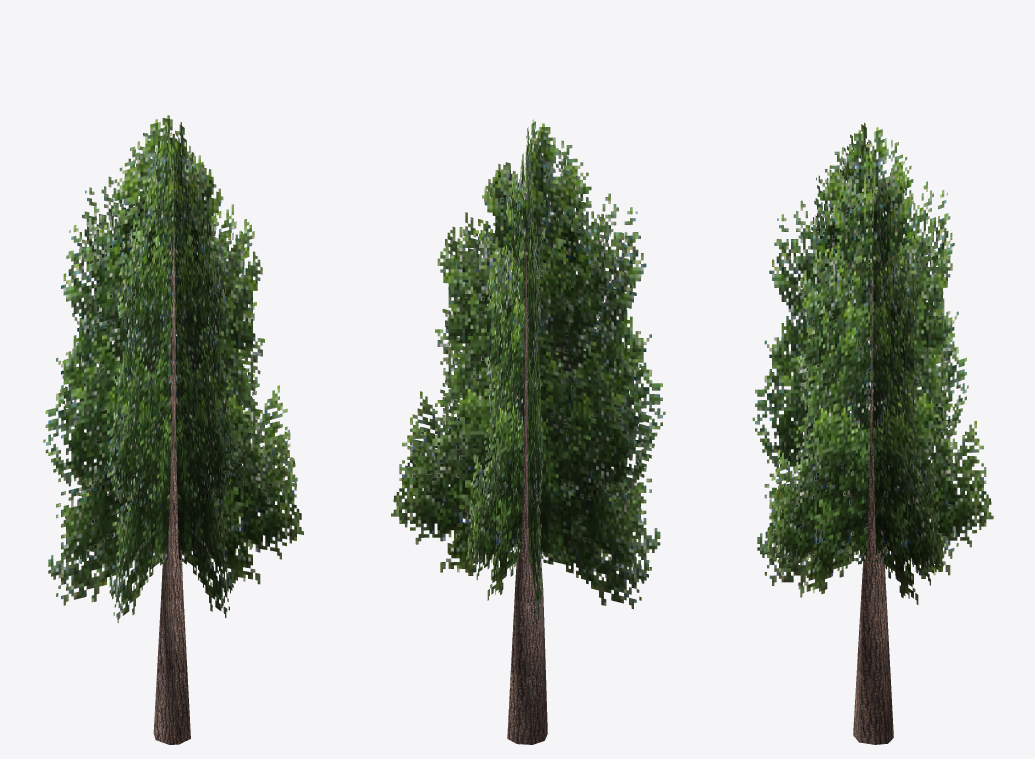
File: tree1.fbx
3 views of the same model, side by side, from view 1: azimuth 30°, elevation 25°; view 2: azimuth 150°, elevation 25°; view 3: azimuth 270°, elevation 25° (orthographic).
Parts seen in each view (by area): view 1: Leaves02, Leaves03, Leaves04, Leaves01, Trunk; view 2: Leaves02, Leaves03, Leaves01, Trunk, Leaves04; view 3: Leaves04, Leaves01, Leaves03, Trunk.
Boxes of the visible parts, bbox=[...] form: Leaves02: bbox=[43, 119, 297, 605]; Leaves03: bbox=[107, 122, 235, 622]; Leaves04: bbox=[60, 115, 303, 584]; Leaves01: bbox=[167, 122, 235, 617]; Trunk: bbox=[153, 181, 190, 744]; Leaves02: bbox=[405, 128, 653, 609]; Leaves03: bbox=[391, 123, 665, 580]; Leaves01: bbox=[466, 119, 575, 600]; Trunk: bbox=[507, 153, 547, 744]; Leaves04: bbox=[514, 127, 543, 623]; Leaves04: bbox=[763, 127, 968, 597]; Leaves01: bbox=[752, 130, 993, 589]; Leaves03: bbox=[803, 122, 943, 604]; Trunk: bbox=[853, 160, 893, 744].
Size of the model in its own units: 890 by 1796 by 743.
